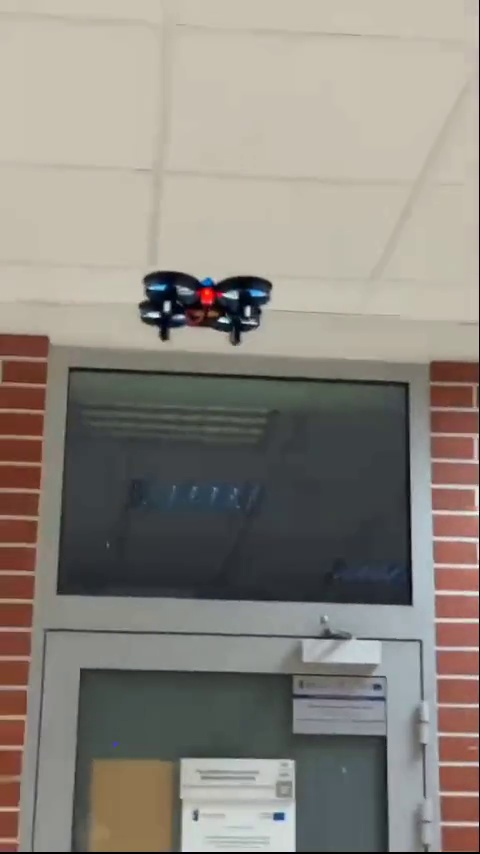drone: (135, 270, 277, 348)
